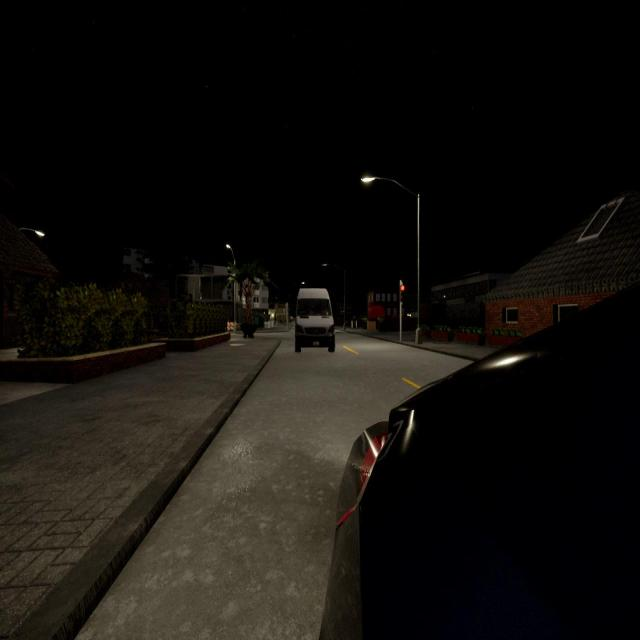Vehicle: (321, 285, 640, 640), (295, 286, 335, 352)
traffic_light: (401, 285, 405, 304)
